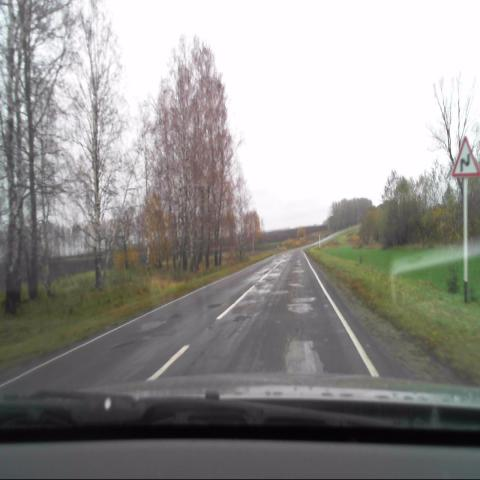1_12: (451, 137, 478, 176)
